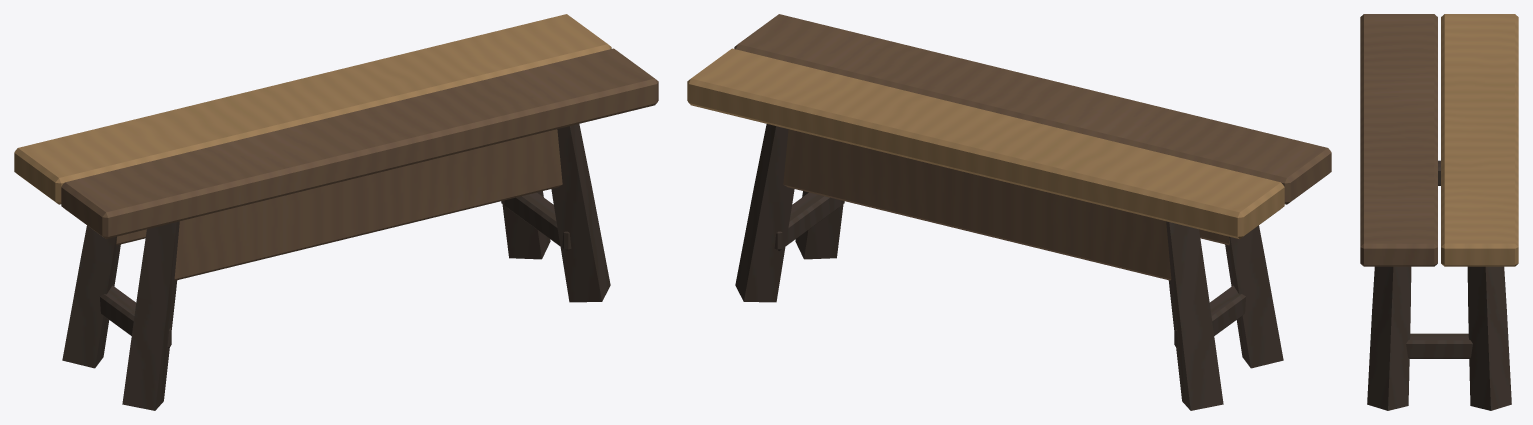
The model's file is PR_Bench.glb.
3 views of the same model, side by side, from view 1: azimuth 30°, elevation 25°; view 2: azimuth 150°, elevation 25°; view 3: azimuth 270°, elevation 25° (orthographic). The views are drawn at different scales.
Visible parts, largest first — view 1: PR_Bench; view 2: PR_Bench; view 3: PR_Bench.
Boxes of the visible parts, x1=… form: PR_Bench: x1=14, y1=14, x2=658, y2=410; PR_Bench: x1=687, y1=14, x2=1331, y2=410; PR_Bench: x1=1360, y1=14, x2=1518, y2=410.
Bounding box in the file's own units: 1.2 × 0.4445 × 0.344.
3 materials, 3 textured.
